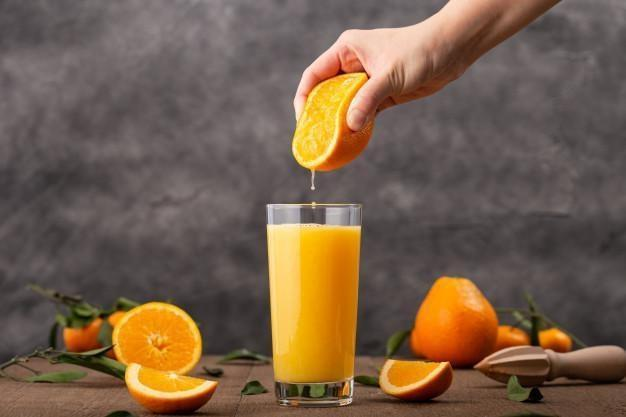glass-normal: (264, 200, 365, 409)
